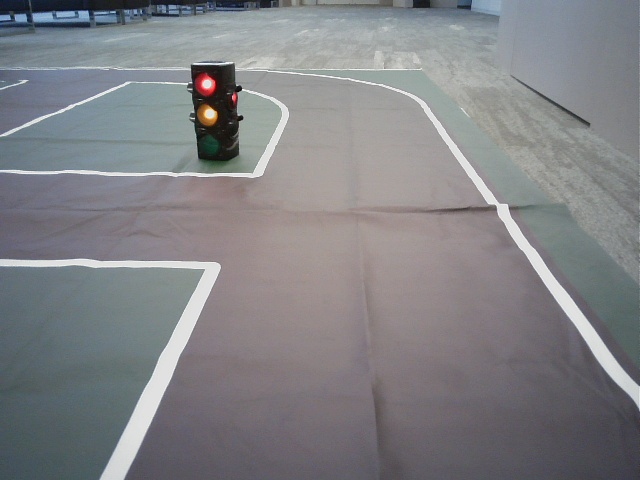red: (192, 68, 222, 156)
